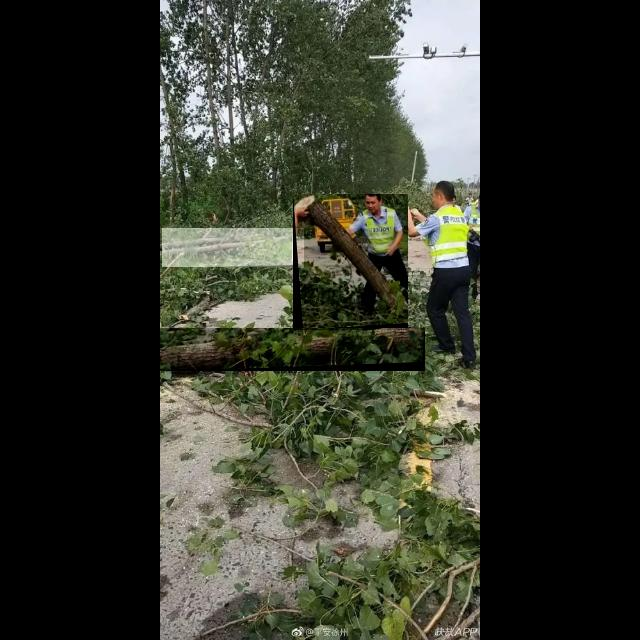Fallen Tree: (293, 194, 409, 330), (160, 328, 426, 372), (162, 228, 304, 268)
